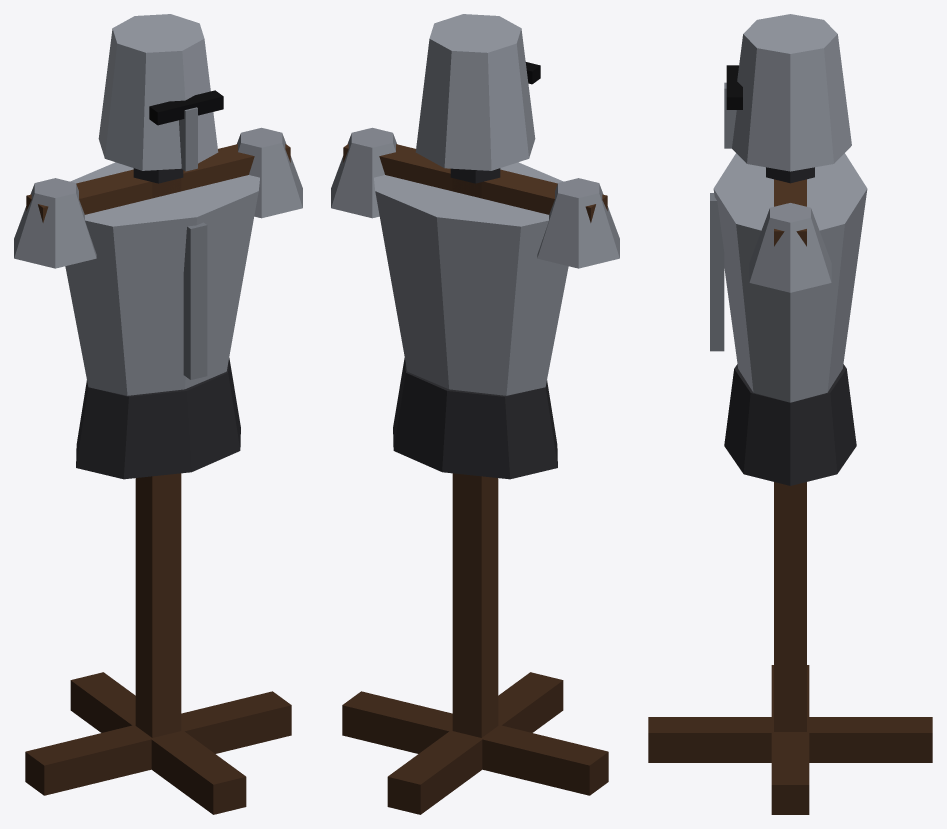
Rendered from armour_stand.glb.
The picture shows the model from 3 angles, left to right: view 1: azimuth 30°, elevation 25°; view 2: azimuth 150°, elevation 25°; view 3: azimuth 270°, elevation 25°; orthographic projection.
Parts seen in each view (by area): view 1: armour_stand; view 2: armour_stand; view 3: armour_stand.
Part boxes in pixels (x1,y1,x2,y2): armour_stand: [14, 14, 302, 814]; armour_stand: [331, 14, 619, 814]; armour_stand: [648, 14, 932, 814].
Size of the model in its own units: 0.7 by 1.68 by 0.6.
